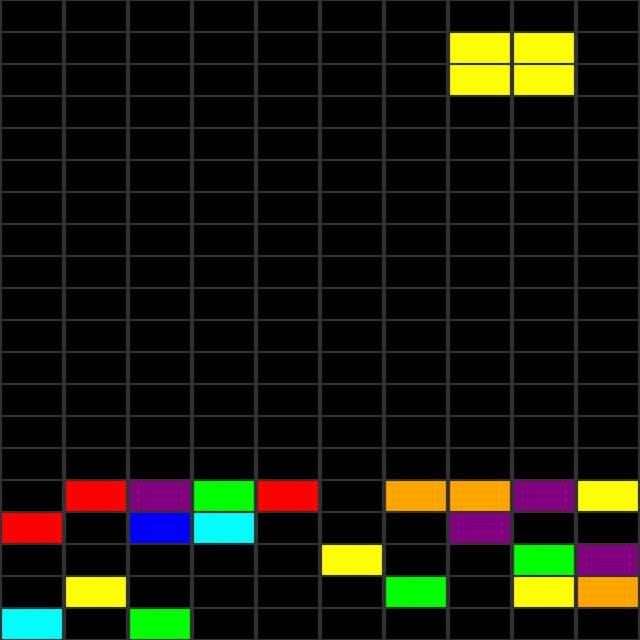Tetrimino_O: (451, 33, 573, 94)
